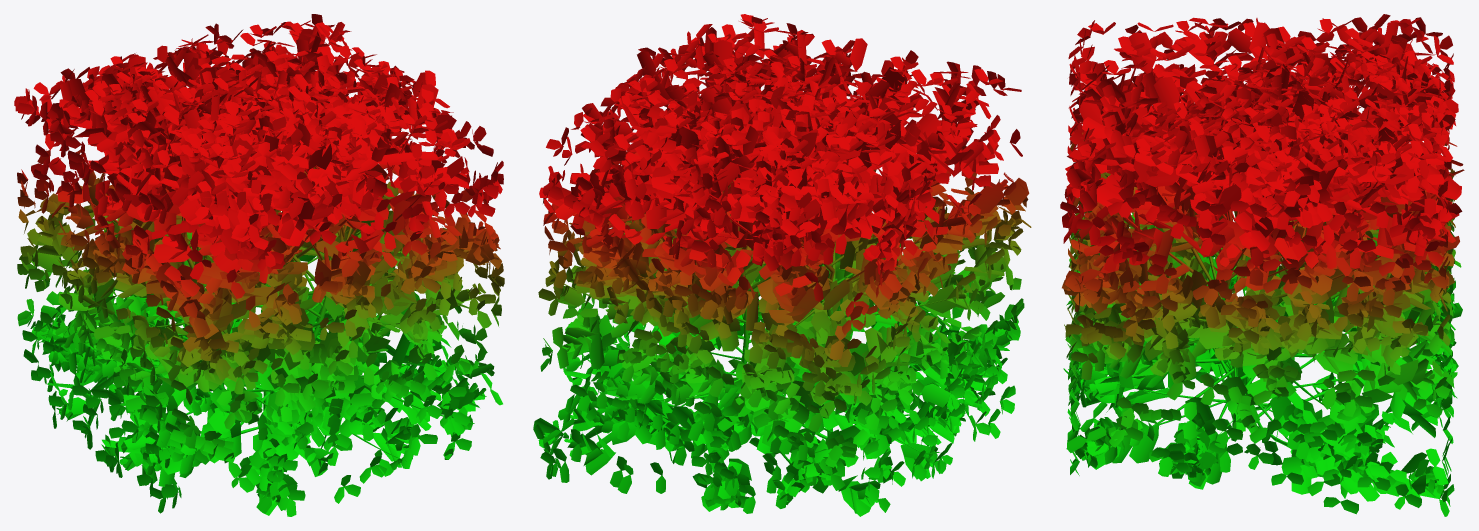
File: Var6_LOD4.fbx
3 views of the same model, side by side, from view 1: azimuth 30°, elevation 25°; view 2: azimuth 150°, elevation 25°; view 3: azimuth 270°, elevation 25° (orthographic). The views are drawn at different scales.
Parts seen in each view (by area): view 1: _ife0_Var6_LOD4; view 2: _ife0_Var6_LOD4; view 3: _ife0_Var6_LOD4.
Part boxes in pixels (x1=…): _ife0_Var6_LOD4: x1=14, y1=14, x2=504, y2=516; _ife0_Var6_LOD4: x1=533, y1=14, x2=1031, y2=516; _ife0_Var6_LOD4: x1=1060, y1=14, x2=1464, y2=516.
Bounding box in the file's own units: 59.33 × 60.24 × 59.12.
